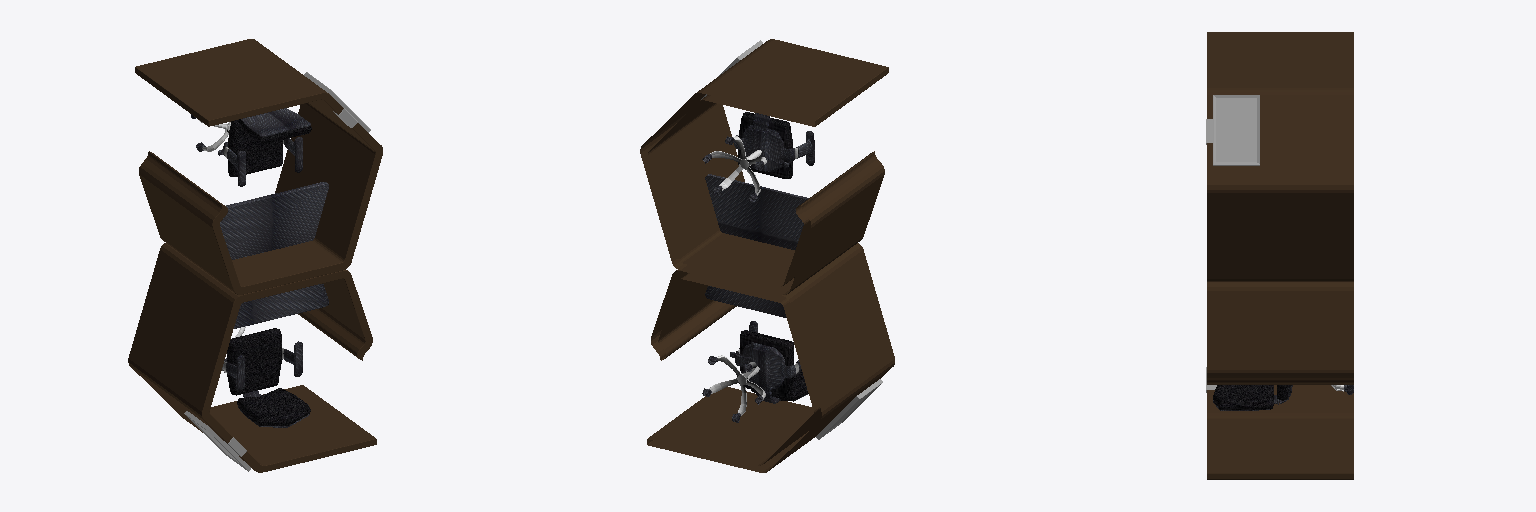
3 renders of one model, left to right at view 1: azimuth 30°, elevation 25°; view 2: azimuth 150°, elevation 25°; view 3: azimuth 270°, elevation 25°, orthographic.
Visible parts, largest first — view 1: Cylinder.003_Cylinder.001, Cylinder.006_Cylinder.000, Plane.001, Cube.095_Cube.094, Plane.005_Plane.000, Cube.094_Cube.093, Cube.100_Cube.099, Cube.102_Cube.101, Cube_Cube.001, Cube.001_Cube.000, Cube.101_Cube.100; view 2: Cylinder.003_Cylinder.001, Cylinder.006_Cylinder.000, Plane.001, Cube.003_Cube.010_Cube.003_Cube.012, Cube.003_Cube.011_Cube.003_Cube.013, Cube.095_Cube.094, Plane.005_Plane.000, Cube.100_Cube.099, Cube_Cube.001, Cube.006_Cube.011_Cube.006_Cube.013; view 3: Cylinder.003_Cylinder.001, Cylinder.006_Cylinder.000, Cube.001_Cube.000, Cube.094_Cube.093.
Part boxes in pixels (x1,y1,x2,y2): Cylinder.003_Cylinder.001: (135,39,382,294); Cylinder.006_Cylinder.000: (128,243,376,472); Plane.001: (220,182,328,259); Cube.095_Cube.094: (227,328,281,395); Plane.005_Plane.000: (234,284,328,328); Cube.094_Cube.093: (237,388,310,425); Cube.100_Cube.099: (228,120,282,176); Cube.102_Cube.101: (241,108,310,137); Cube_Cube.001: (184,411,250,471); Cube.001_Cube.000: (304,72,370,132); Cube.101_Cube.100: (238,119,311,144); Cylinder.003_Cylinder.001: (640,39,888,294); Cylinder.006_Cylinder.000: (647,243,894,472); Plane.001: (705,174,808,249); Cube.003_Cube.010_Cube.003_Cube.012: (743,342,784,389); Cube.003_Cube.011_Cube.003_Cube.013: (743,125,783,171); Cube.095_Cube.094: (740,330,793,397); Plane.005_Plane.000: (705,286,786,317); Cube.100_Cube.099: (738,112,792,178); Cube_Cube.001: (816,379,882,439); Cube.006_Cube.011_Cube.006_Cube.013: (779,131,814,165); Cylinder.003_Cylinder.001: (1207,32,1353,281); Cylinder.006_Cylinder.000: (1207,282,1353,479); Cube.001_Cube.000: (1206,95,1259,165); Cube.094_Cube.093: (1213,385,1273,410).
Size of the model in its own units: 1.79 by 3.43 by 1.26.
Materials: 12 (3 with a texture image).